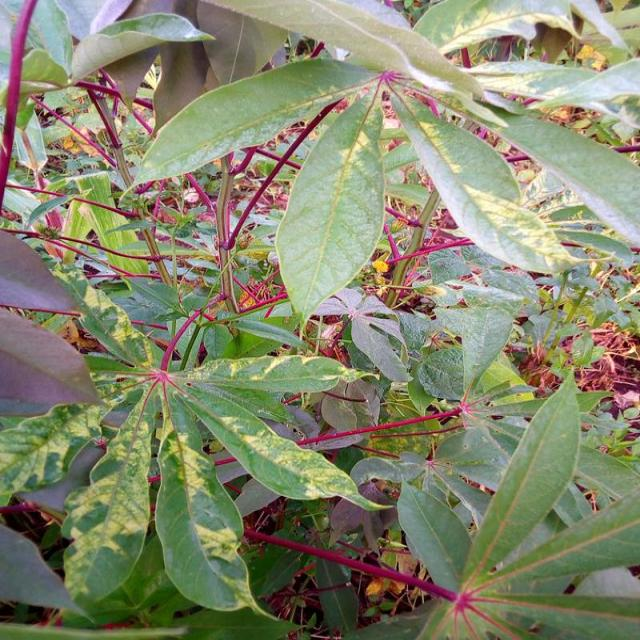cassava leaf: (0, 0, 638, 637), (388, 86, 589, 278), (136, 54, 380, 184), (274, 95, 386, 324)
